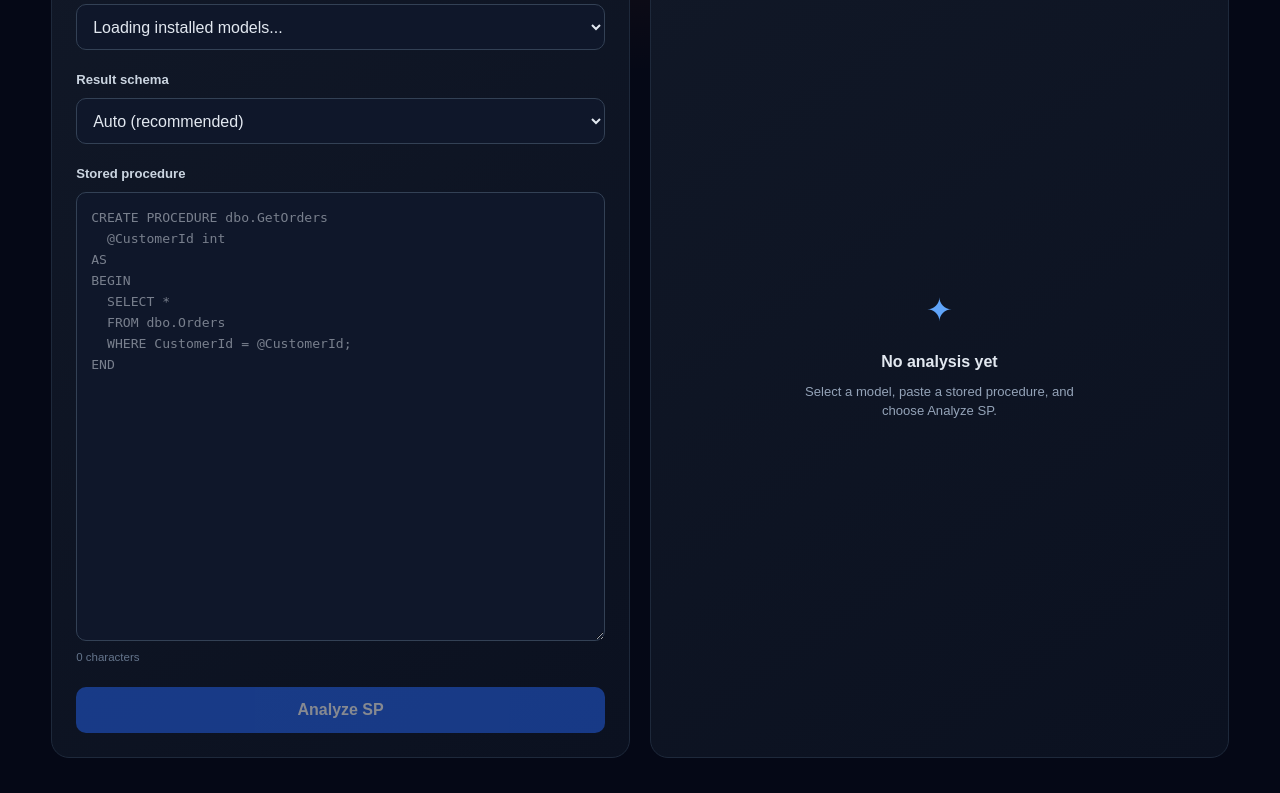
Test case: ReviewPage › shows low-confidence label and renders the response schemaVersion
The image size is (1280, 793).
(page scrolled)
Replace the text in the text box with placeholder "CREATE PROCEDURE" with "select 1" at x=341, y=417, box [76, 192, 605, 641]
(page scrolled)
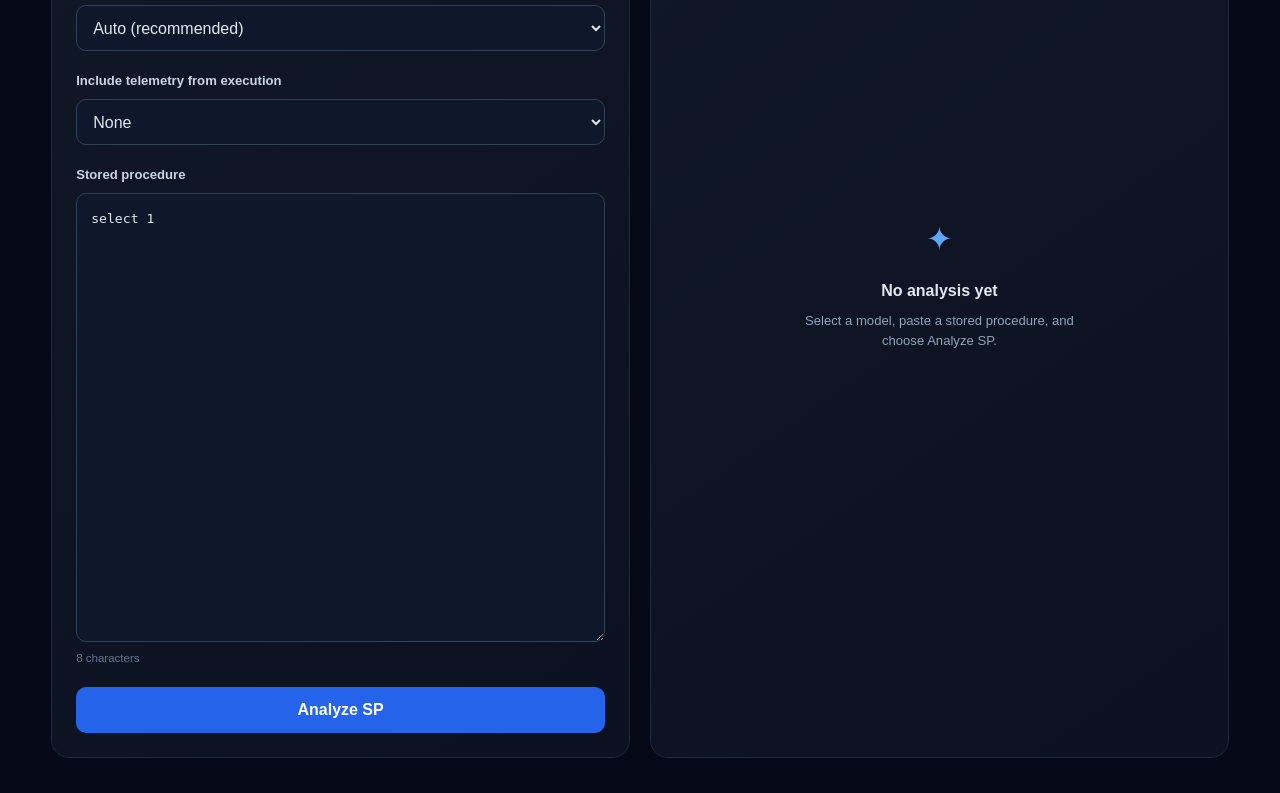
Click the button "Analyze SP" at x=341, y=710, box [76, 688, 605, 734]
(page scrolled)
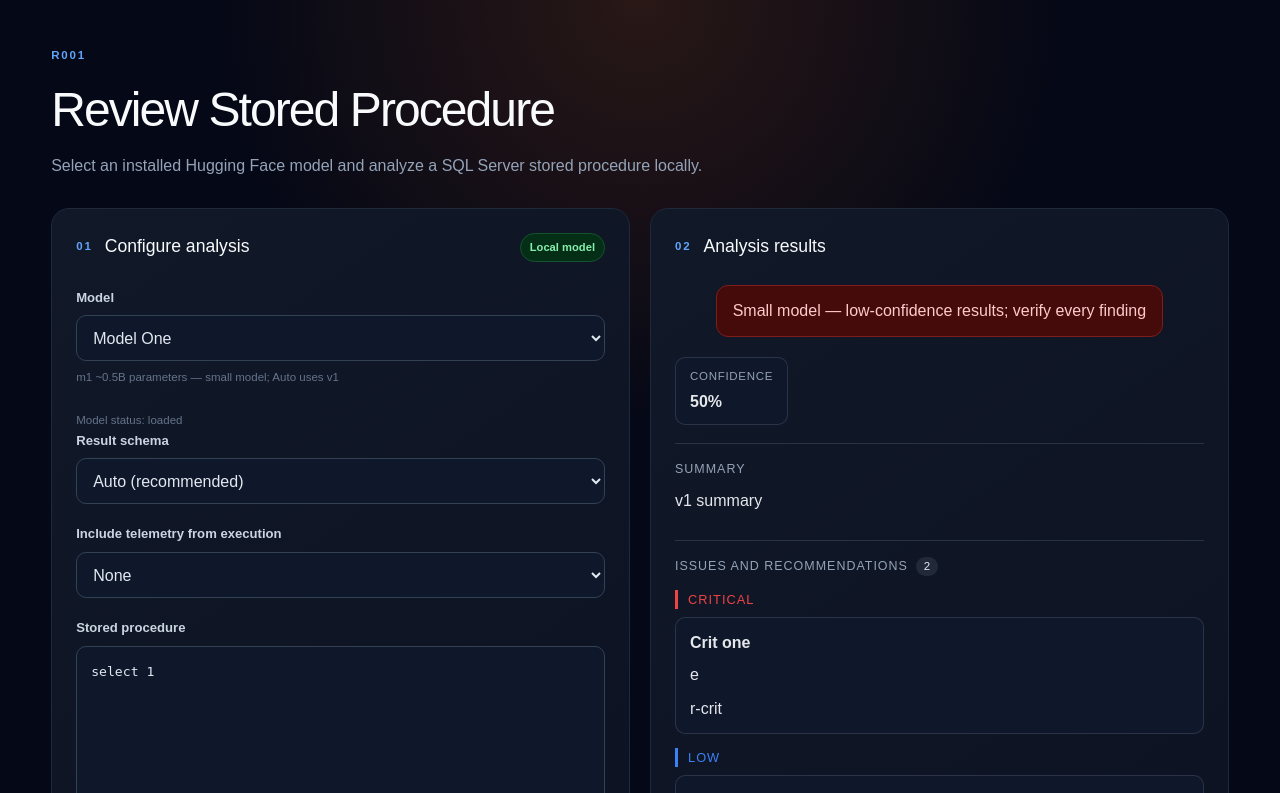
Now the text with test id "low-confidence" reads "Small model — low-confidence results; verify every finding", box [733, 302, 1146, 319]
